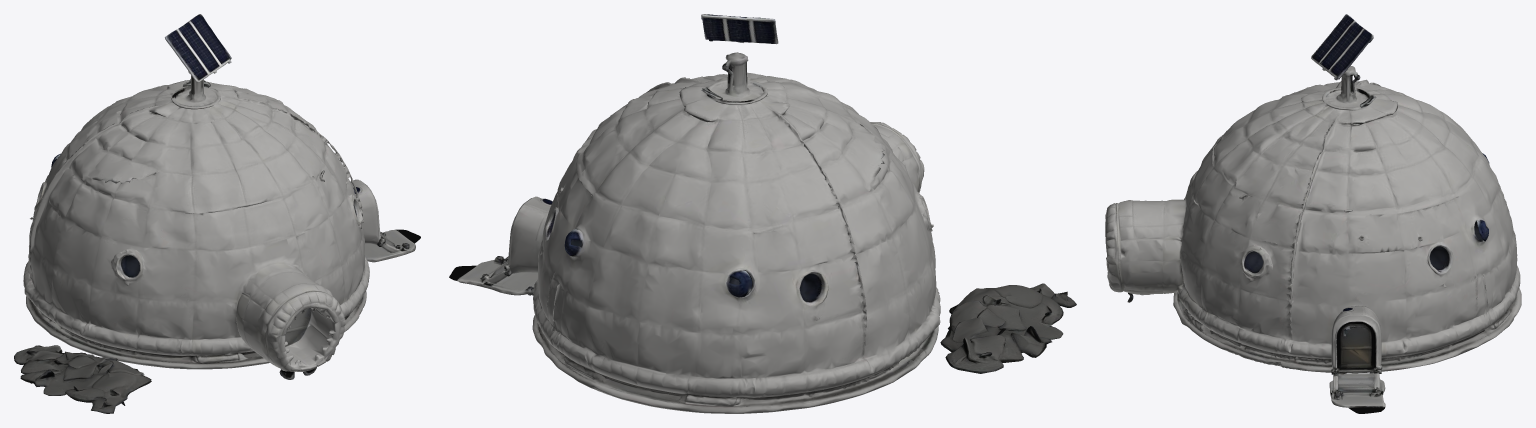
Rendered from moon_base.glb.
3 renders of one model, left to right at view 1: azimuth 30°, elevation 25°; view 2: azimuth 150°, elevation 25°; view 3: azimuth 270°, elevation 25°, orthographic. The views are drawn at different scales.
Parts seen in each view (by area): view 1: tripo_node_4740303a-0a77-4c4d-8812-9ee7c1674313; view 2: tripo_node_4740303a-0a77-4c4d-8812-9ee7c1674313; view 3: tripo_node_4740303a-0a77-4c4d-8812-9ee7c1674313.
Part boxes in pixels (x1=…): tripo_node_4740303a-0a77-4c4d-8812-9ee7c1674313: x1=14, y1=14, x2=420, y2=413; tripo_node_4740303a-0a77-4c4d-8812-9ee7c1674313: x1=449, y1=14, x2=1076, y2=413; tripo_node_4740303a-0a77-4c4d-8812-9ee7c1674313: x1=1105, y1=14, x2=1521, y2=413.
Size of the model in its own units: 0.9799 by 0.5738 by 0.7859.
Materials: 1 (1 with a texture image).
